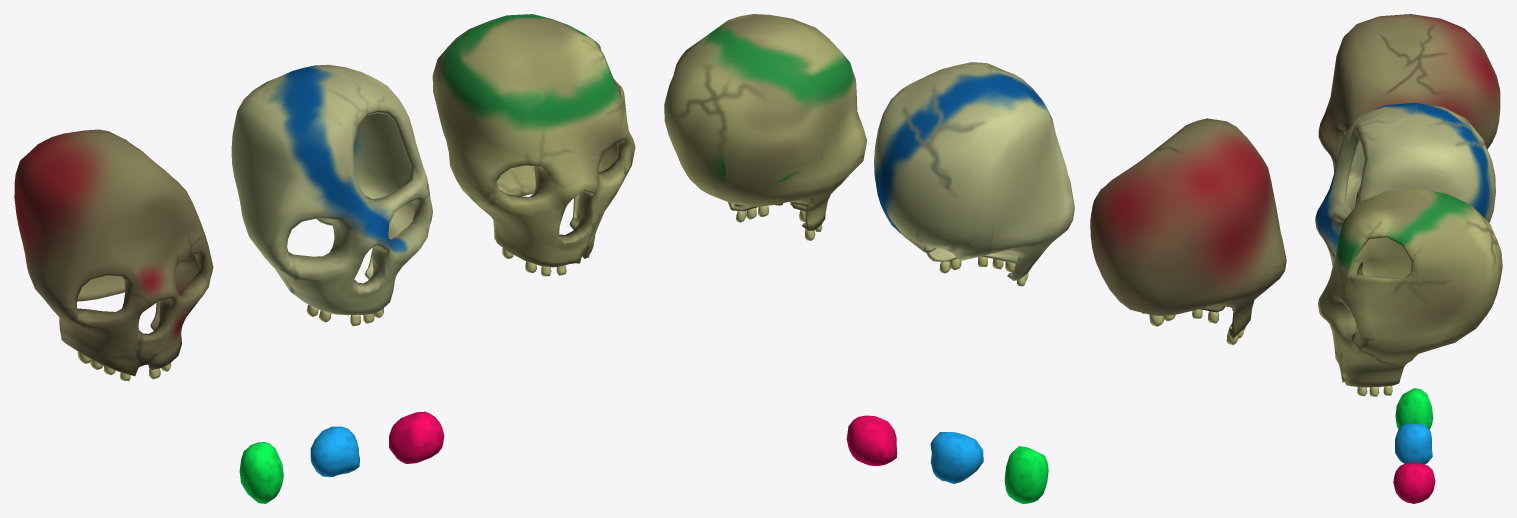
Rendered from Skull_Stones.fbx.
3 views of the same model, side by side, from view 1: azimuth 30°, elevation 25°; view 2: azimuth 150°, elevation 25°; view 3: azimuth 270°, elevation 25° (orthographic). The views are drawn at different scales.
Visible parts, largest first — view 1: Skull3, Skull1, Skull2, StoneR, StoneG, StoneB; view 2: Skull1, Skull3, Skull2, StoneB, StoneR, StoneG; view 3: Skull3, Skull2, Skull1, StoneR, StoneB, StoneG.
Part boxes in pixels (bbox=[...]): Skull3: bbox=[432, 14, 635, 276]; Skull1: bbox=[231, 64, 432, 326]; Skull2: bbox=[14, 129, 213, 381]; StoneR: bbox=[389, 411, 444, 463]; StoneG: bbox=[239, 442, 283, 503]; StoneB: bbox=[310, 426, 359, 477]; Skull1: bbox=[874, 62, 1074, 286]; Skull3: bbox=[664, 14, 867, 240]; Skull2: bbox=[1090, 118, 1286, 344]; StoneB: bbox=[930, 432, 983, 483]; StoneR: bbox=[846, 415, 897, 465]; StoneG: bbox=[1004, 446, 1048, 503]; Skull3: bbox=[1318, 188, 1502, 396]; Skull2: bbox=[1318, 14, 1500, 206]; Skull1: bbox=[1315, 102, 1495, 265]; StoneR: bbox=[1393, 462, 1435, 503]; StoneB: bbox=[1395, 423, 1432, 464]; StoneG: bbox=[1395, 388, 1433, 429].
Bounding box in the file's own units: 151 × 103 × 49.46.
